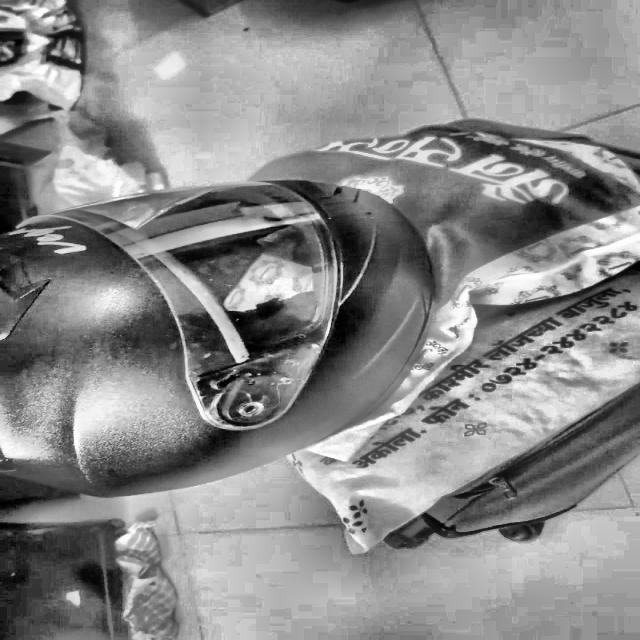Helmet: (7, 177, 465, 493)
